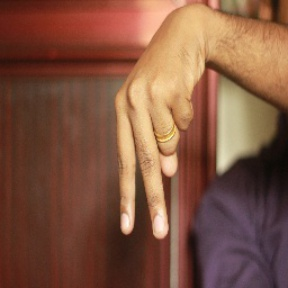Y: (107, 43, 209, 240)
